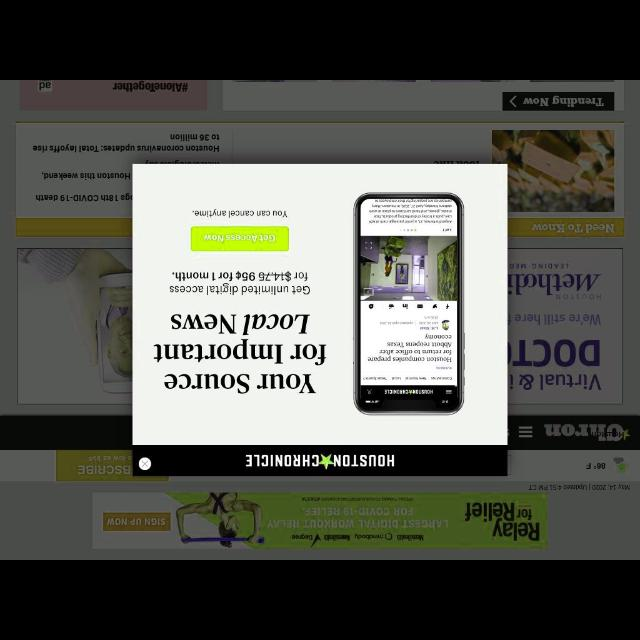icon: (518, 424, 534, 440), (138, 458, 152, 470), (508, 95, 518, 108)
iframe: (133, 164, 507, 476), (92, 493, 548, 549)
image: (353, 192, 465, 416), (17, 248, 132, 404), (509, 248, 623, 404), (492, 130, 614, 212), (246, 452, 394, 470), (544, 421, 630, 443), (612, 457, 630, 473)
text: (152, 339, 326, 365), (168, 270, 310, 296), (164, 374, 316, 394), (170, 314, 310, 334), (32, 144, 220, 152), (522, 94, 606, 108), (532, 222, 616, 234), (192, 208, 288, 218), (112, 81, 188, 93), (41, 171, 131, 181), (35, 194, 132, 202), (528, 484, 630, 491), (202, 234, 276, 242), (170, 132, 220, 142), (584, 462, 606, 470)
textbutton: (190, 226, 288, 252)
